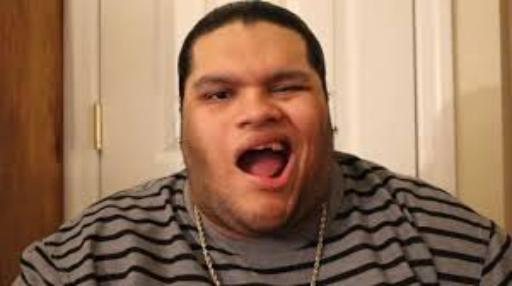left_eye: (272, 85, 313, 97)
left_lip_corner: (285, 139, 298, 162)
right_eye: (198, 90, 236, 104)
right_lip_corner: (230, 154, 245, 172)
